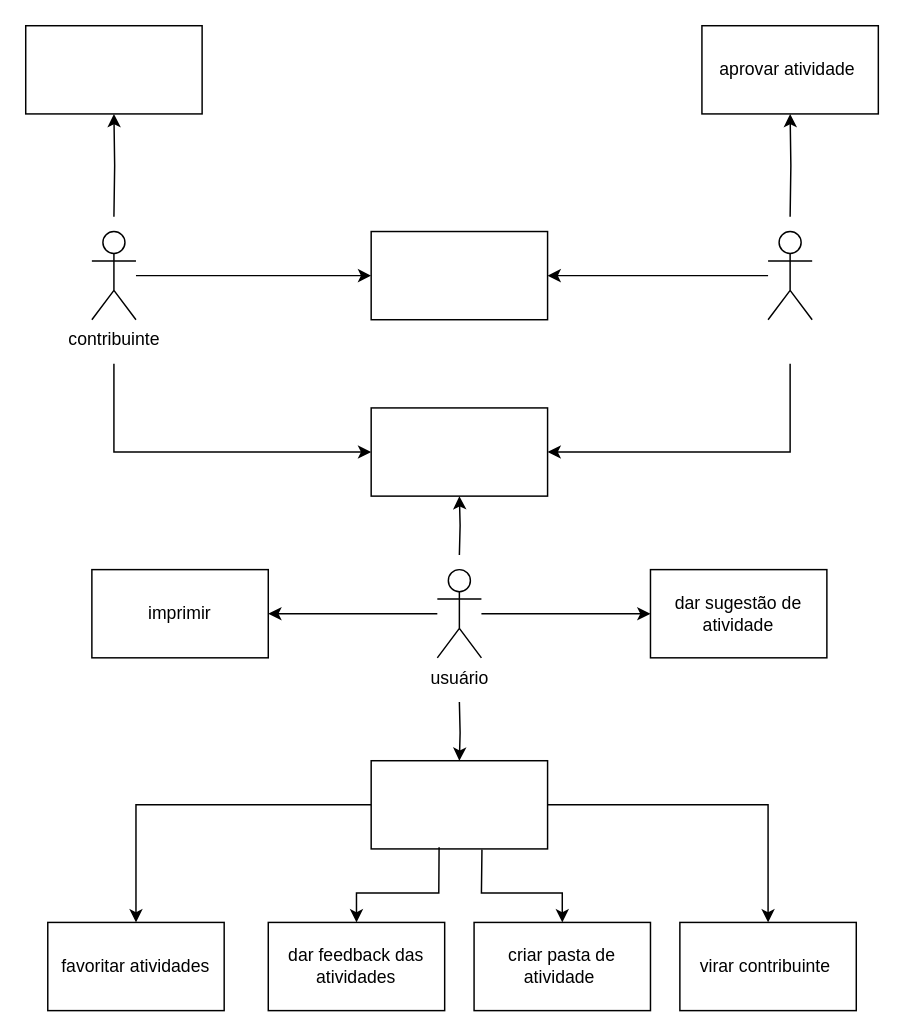
Some shapes in this 904 by 1036 pixel diagram are drawn without their labels. Here are the shapes that lost their labels. From the top down, the box of each, then its label:
(24, 24, 202, 114): postar atividade
(370, 230, 548, 320): editar a atividade
(767, 230, 812, 320): ADM
(370, 406, 548, 496): ver atividade / ver processo de conclusão
(370, 759, 548, 849): fazer login
